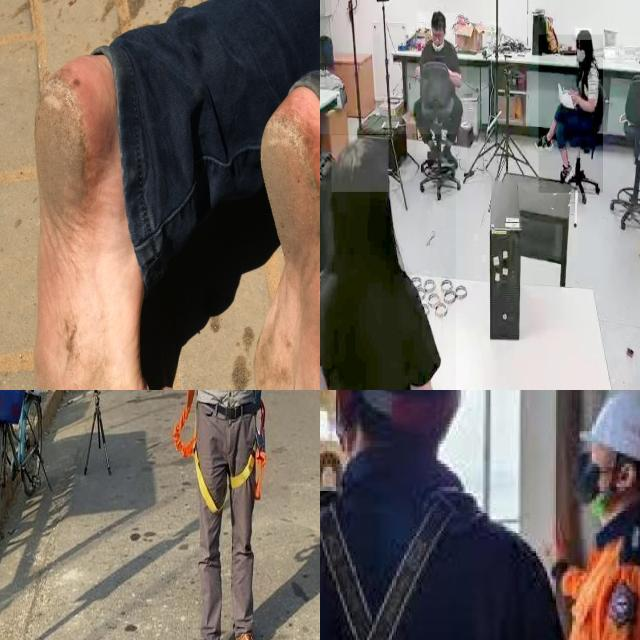Barefoots: (33, 54, 181, 390), (253, 85, 320, 390)
Harness: (320, 390, 463, 640), (182, 390, 262, 490)
face_mask: (576, 38, 588, 66)
hand_noglove: (569, 90, 579, 108)
head_nohelmet: (331, 135, 389, 193), (430, 10, 446, 26), (576, 28, 592, 41)
person: (320, 134, 456, 390), (538, 34, 604, 194), (417, 12, 468, 160)
shoes: (557, 154, 574, 192), (438, 141, 459, 170), (534, 130, 555, 154)
